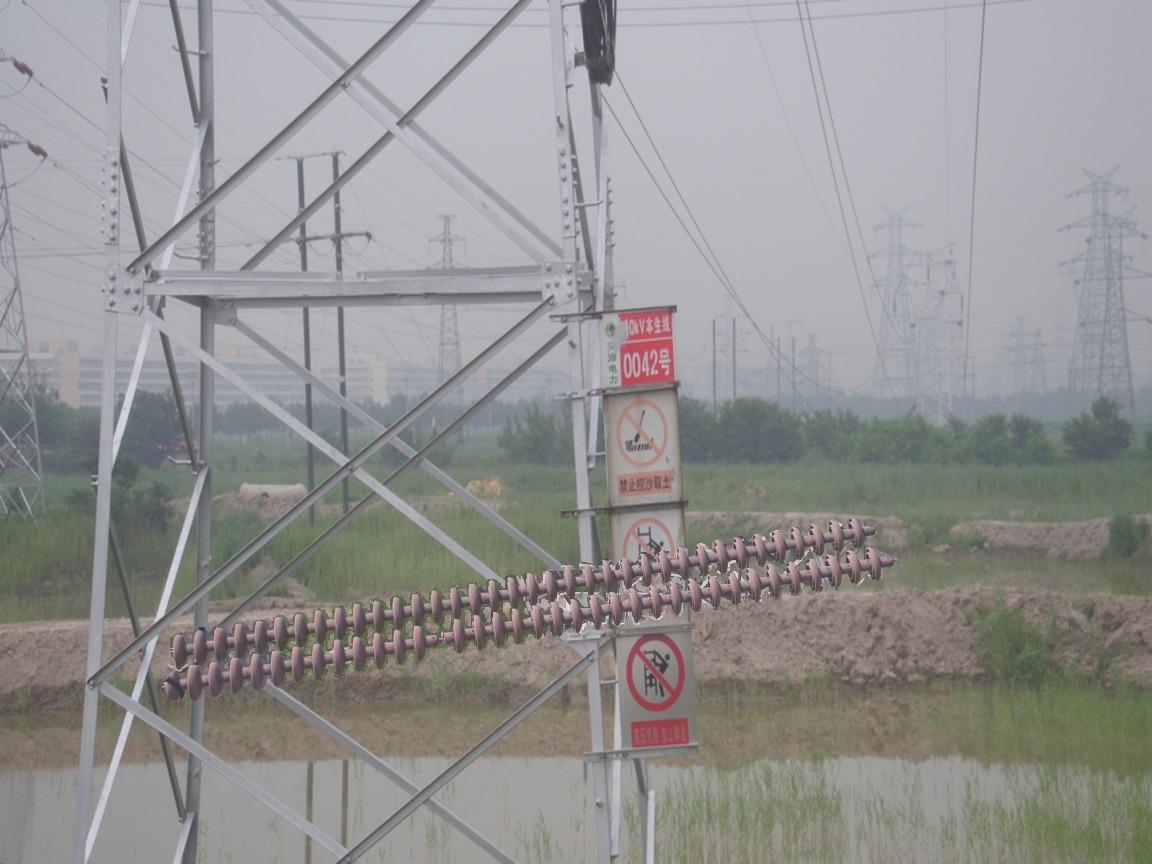defect: (407, 615, 469, 662)
